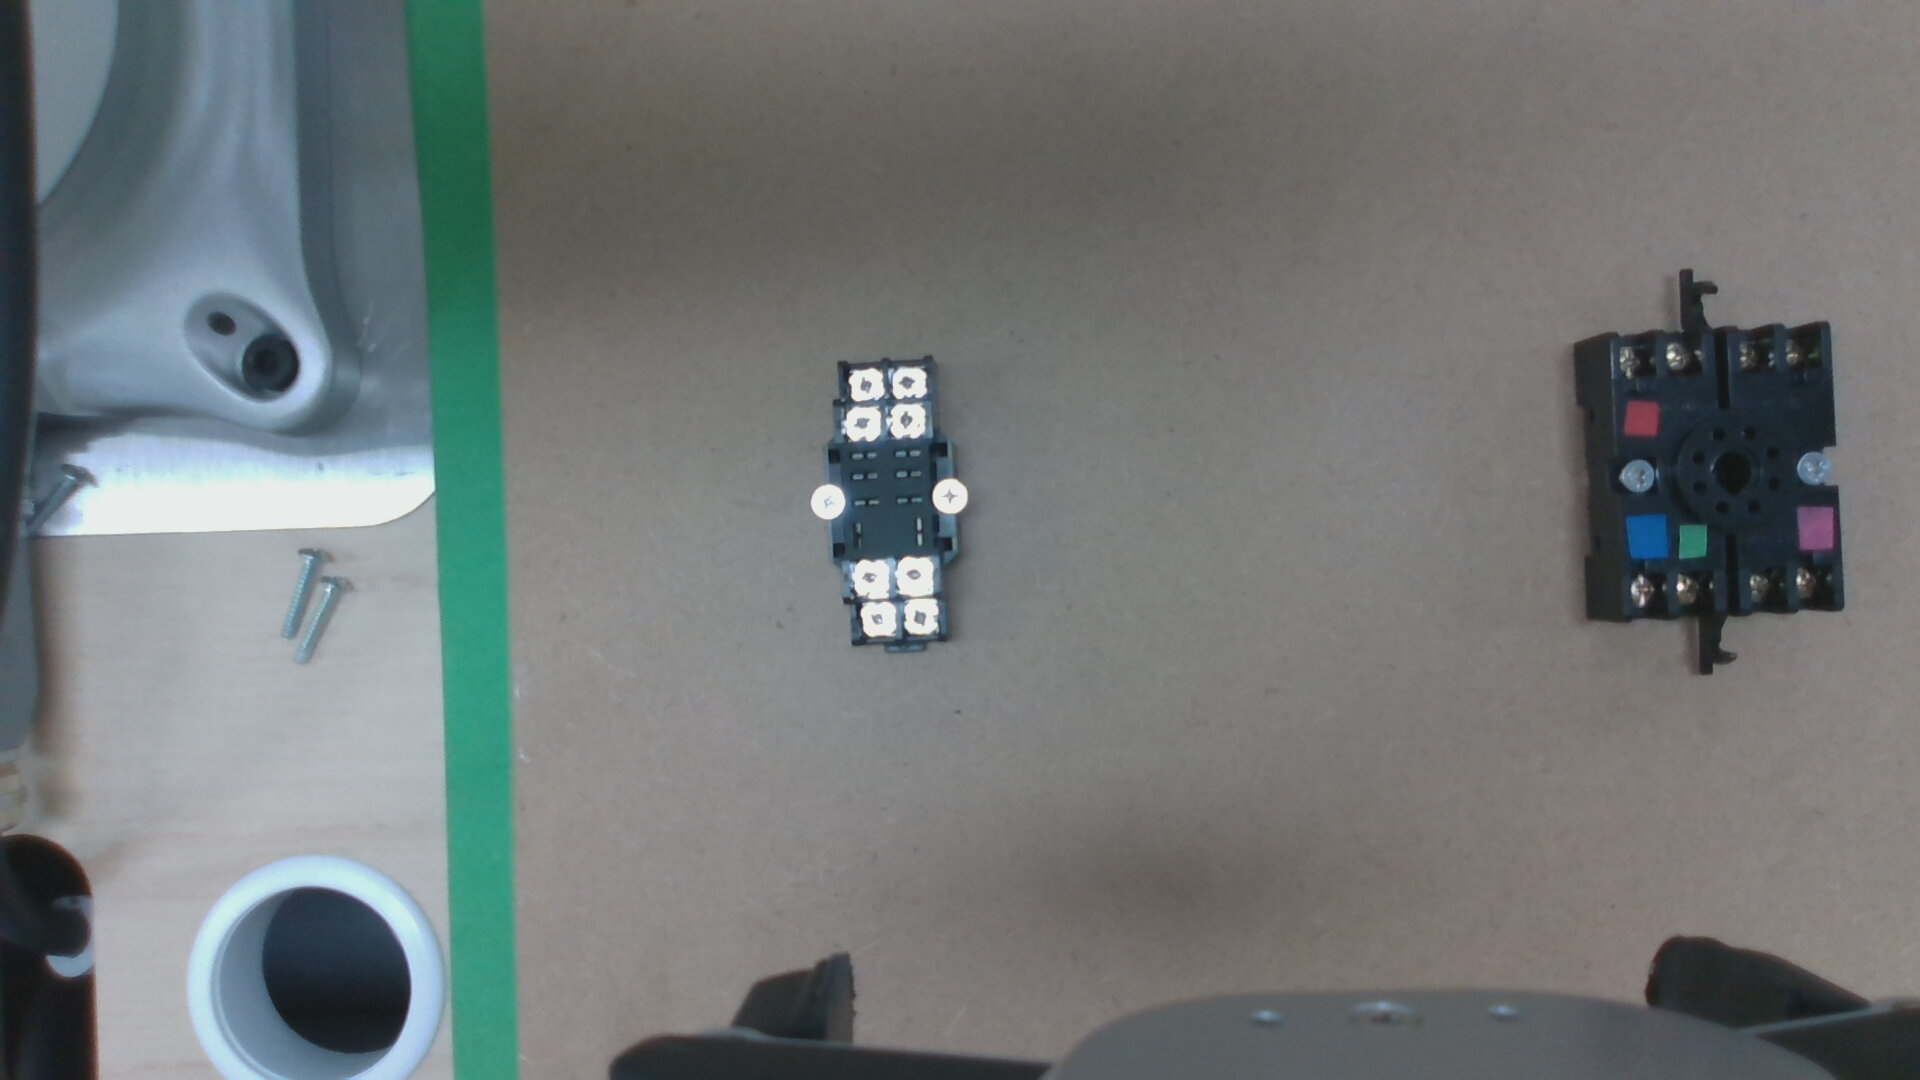relay 3: (889, 367, 926, 397)
relay 4: (845, 371, 881, 400)
relay 5: (905, 601, 936, 636)
relay 6: (858, 604, 895, 636)
relay 7: (895, 558, 931, 593)
relay 8: (855, 562, 887, 595)
